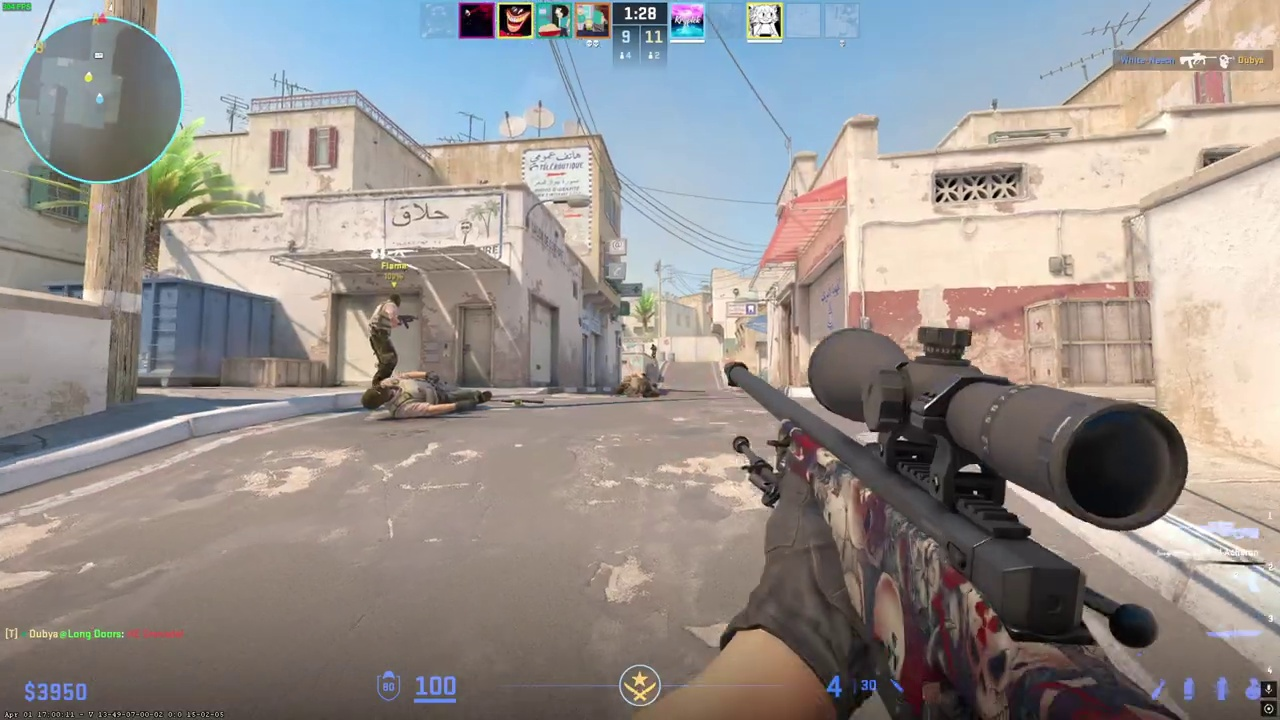CT: (650, 344, 657, 358)
Terrorist: (367, 292, 405, 385)
